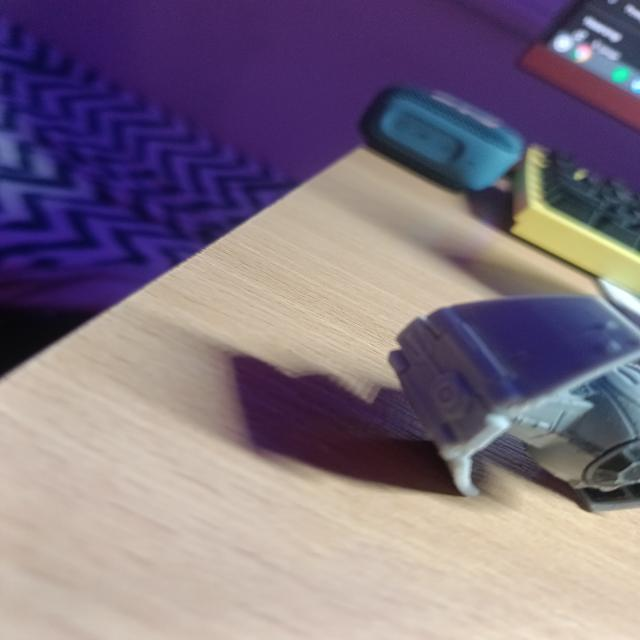tie fighter: (390, 281, 640, 512)
